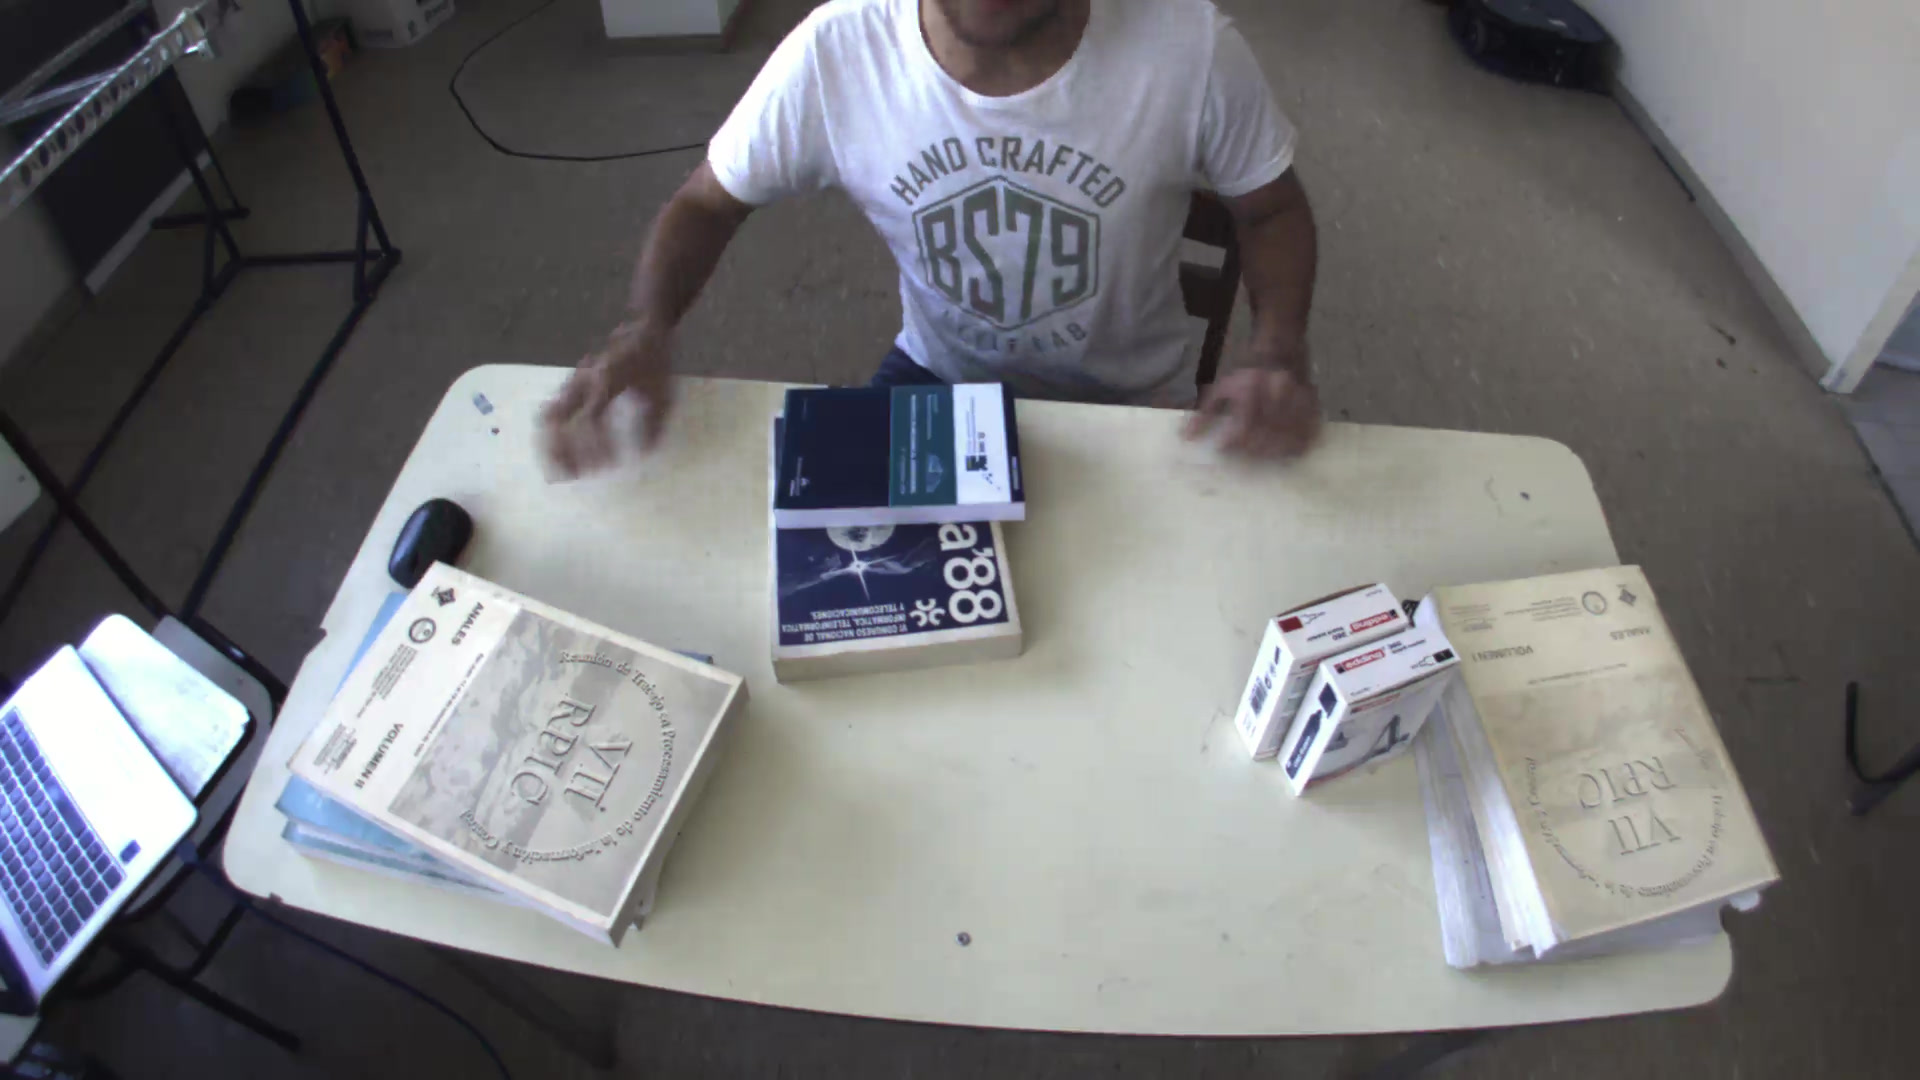hand: (1188, 340, 1333, 465)
